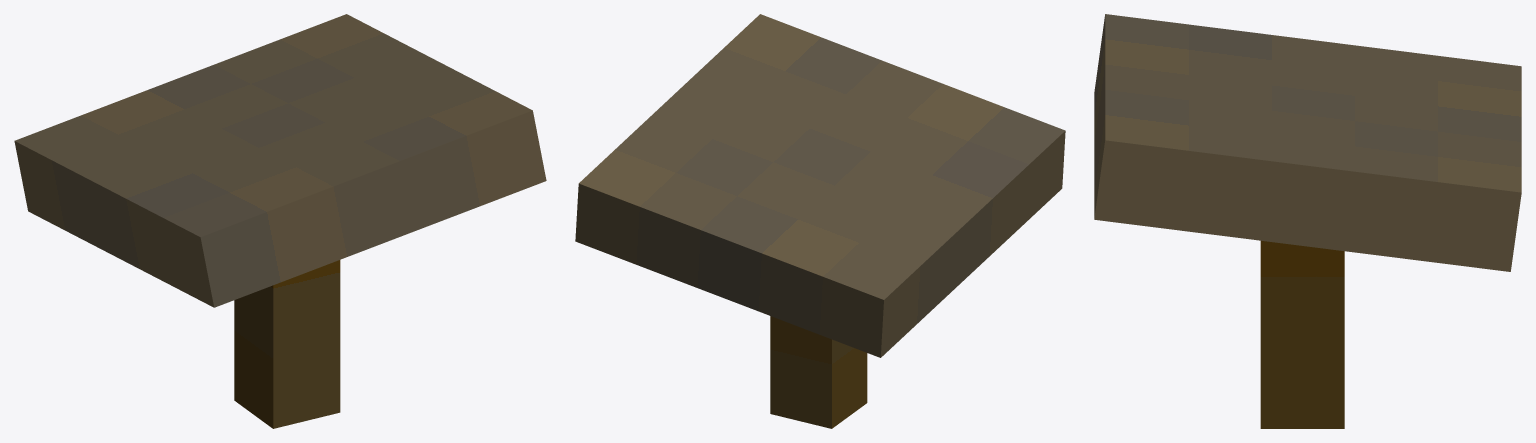
Rendered from grib_2.fbx.
3 renders of one model, left to right at view 1: azimuth 30°, elevation 25°; view 2: azimuth 150°, elevation 25°; view 3: azimuth 270°, elevation 25°, orthographic. The views are drawn at different scales.
Parts seen in each view (by area): view 1: cuboid_1, cuboid; view 2: cuboid_1, cuboid; view 3: cuboid_1, cuboid.
Part boxes in pixels (left/top/right/bottom): cuboid_1: left=14, top=14, right=546, bottom=307; cuboid: left=234, top=260, right=340, bottom=428; cuboid_1: left=575, top=14, right=1065, bottom=357; cuboid: left=770, top=316, right=867, bottom=428; cuboid_1: left=1094, top=14, right=1521, bottom=271; cuboid: left=1260, top=240, right=1344, bottom=428.
Size of the model in its own units: 32.32 by 28.96 by 31.8.
